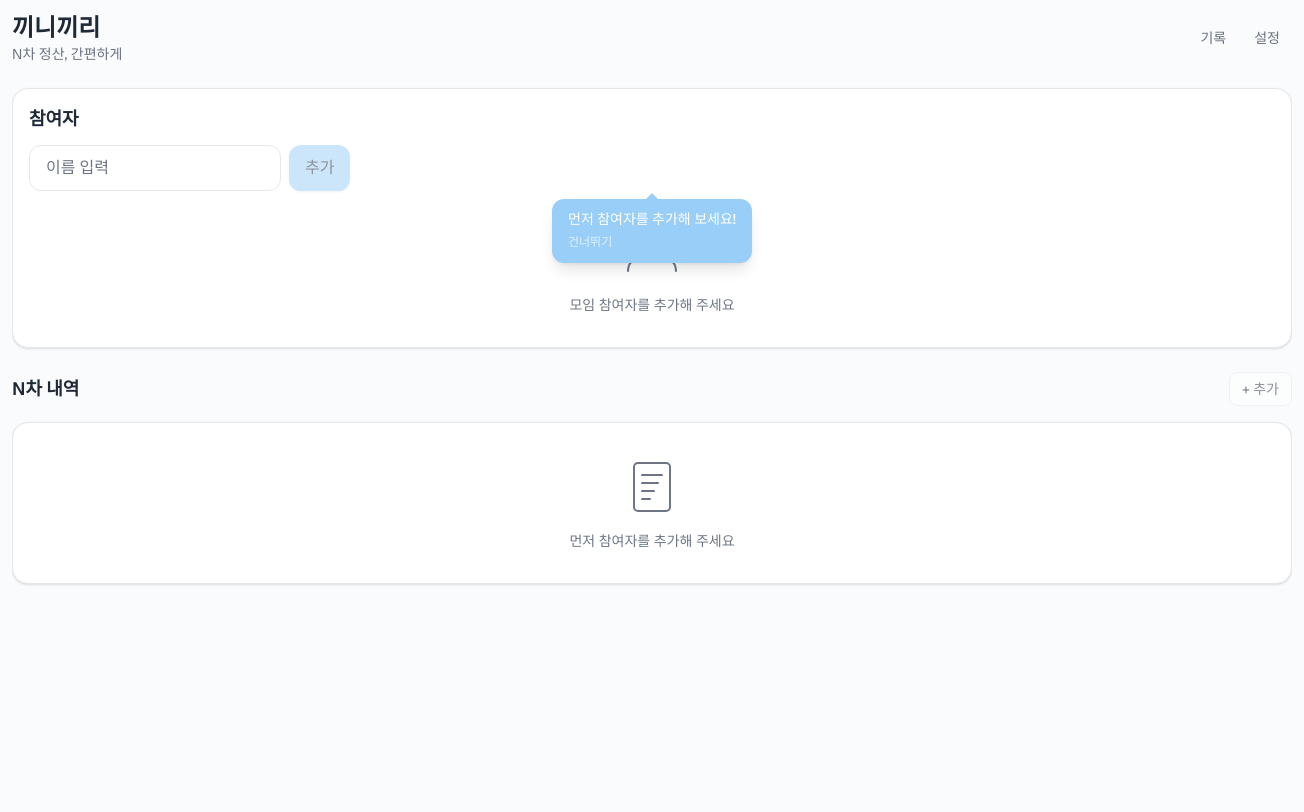
MainPage - 참여자 관리 › 참여자 추가
The image size is (1304, 812).
Type "앨리스" into the field named "참여자 이름 입력" at (155, 168), box [29,145,281,191]
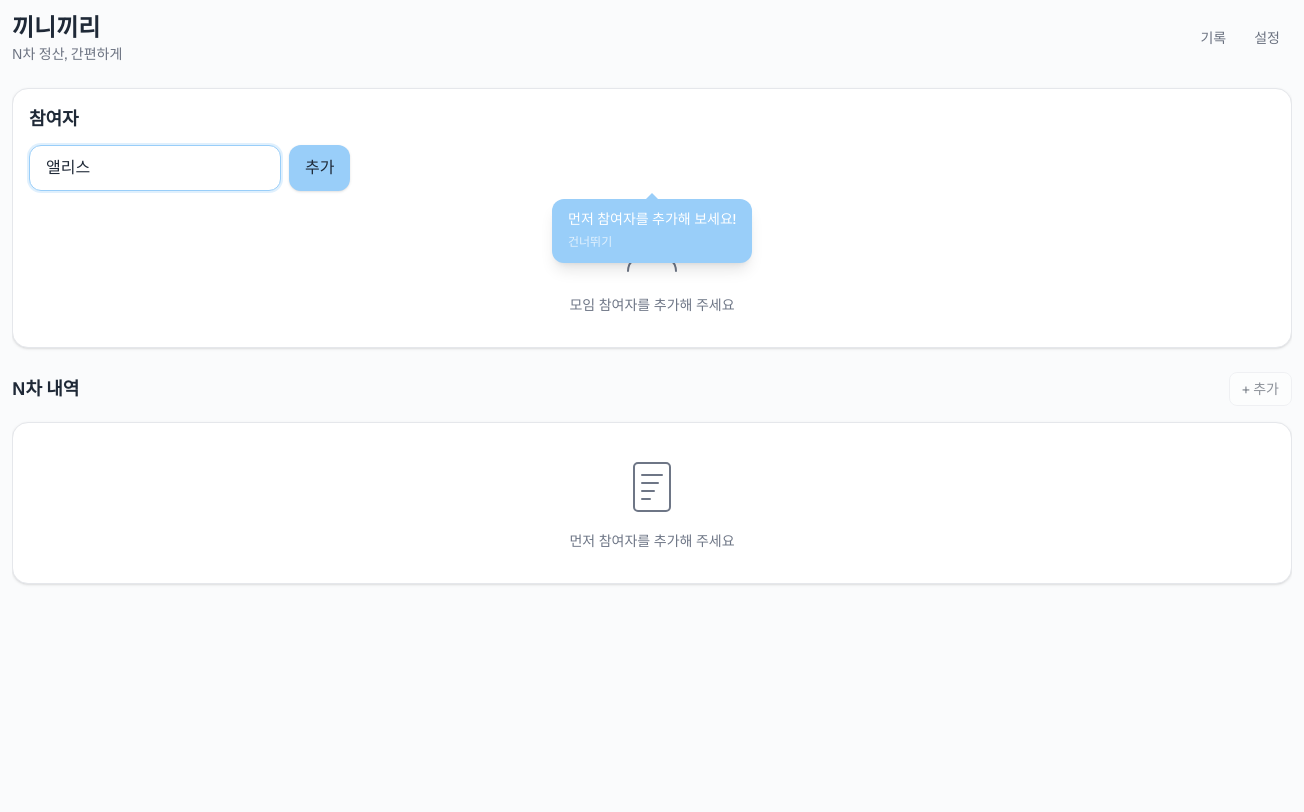
Click the button with aria-label "참여자 추가" at (320, 168), box [289,145,350,191]
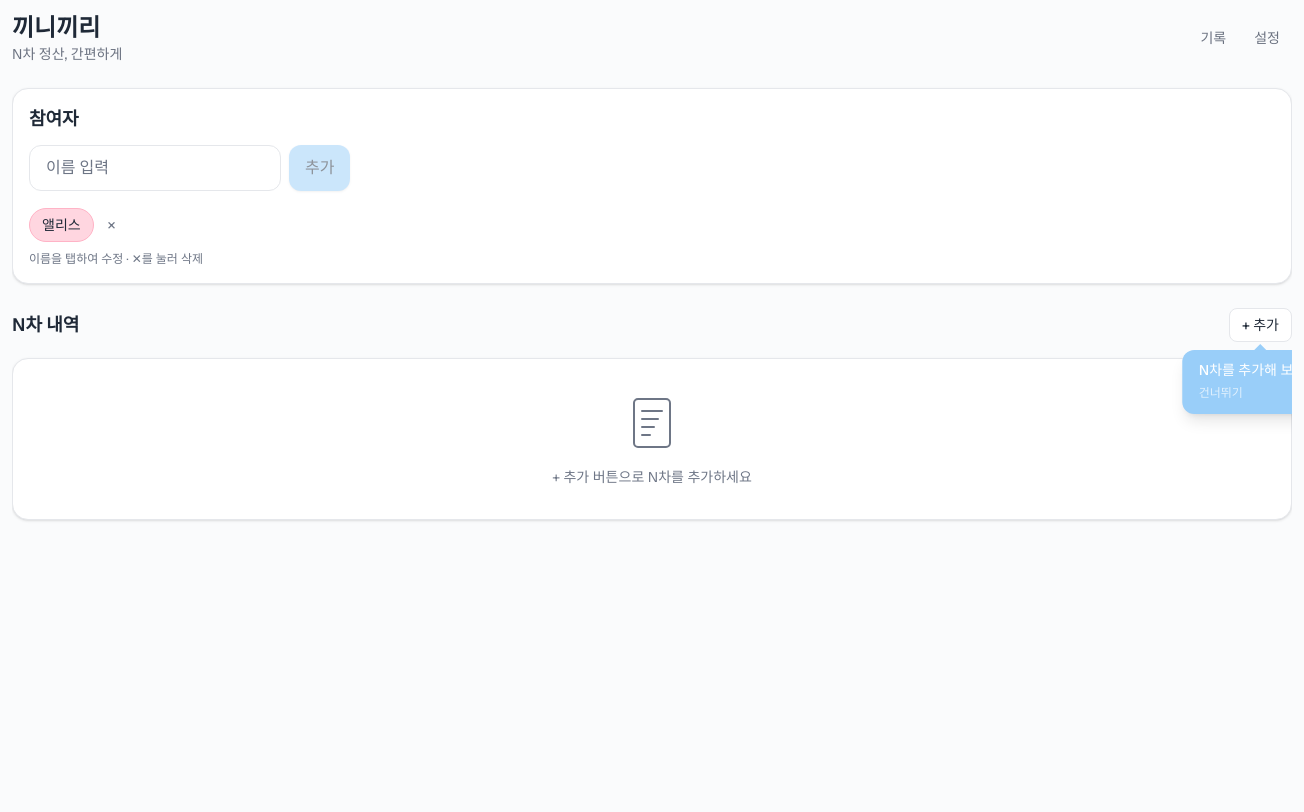
expect the button "앨리스" is shown: met, box [29,208,94,242]
